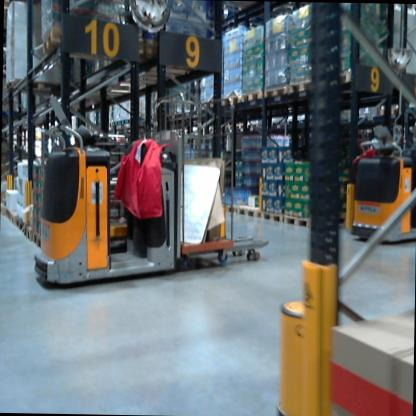pallet: (39, 23, 128, 60), (325, 67, 378, 98), (5, 73, 63, 95), (264, 76, 290, 108), (286, 74, 315, 100), (282, 211, 321, 230), (235, 200, 260, 219), (240, 87, 265, 105), (257, 209, 284, 225), (377, 102, 405, 117), (30, 230, 48, 251), (201, 97, 224, 110), (223, 93, 242, 108), (14, 217, 30, 232), (24, 225, 33, 241), (224, 203, 236, 213), (9, 211, 17, 223), (5, 207, 12, 219), (103, 121, 112, 129), (118, 118, 128, 125), (112, 119, 120, 127)
pallet_truck: (29, 102, 246, 306), (351, 118, 416, 244)
